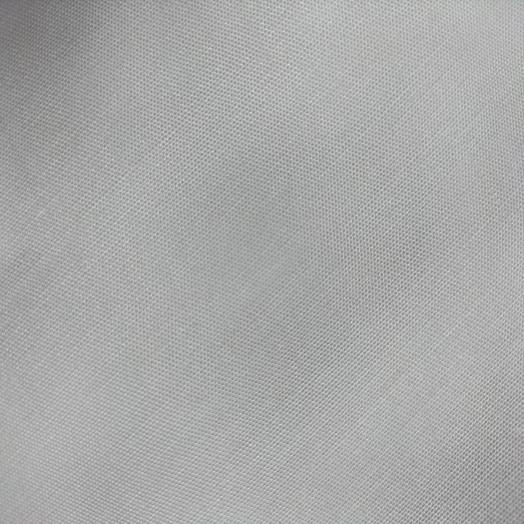rayon: (0, 1, 524, 524)
